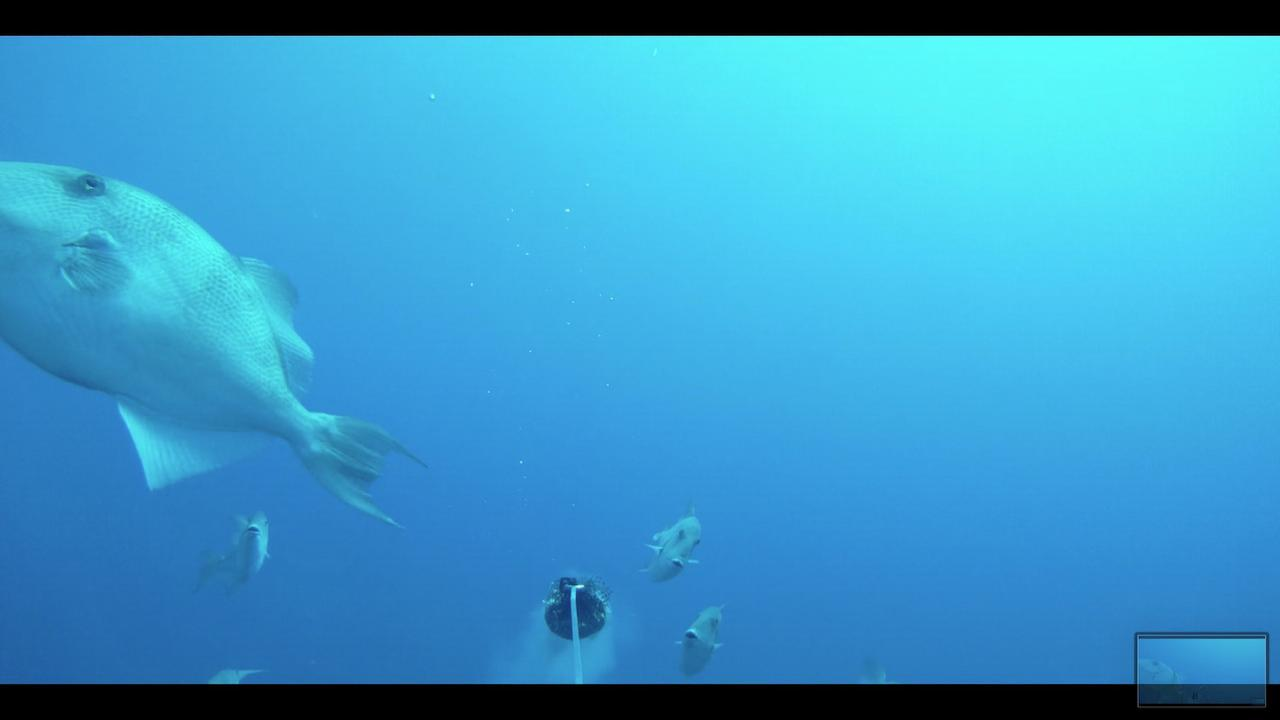balistes: (1, 149, 442, 534), (630, 490, 709, 580), (657, 595, 733, 680), (203, 507, 282, 586)
